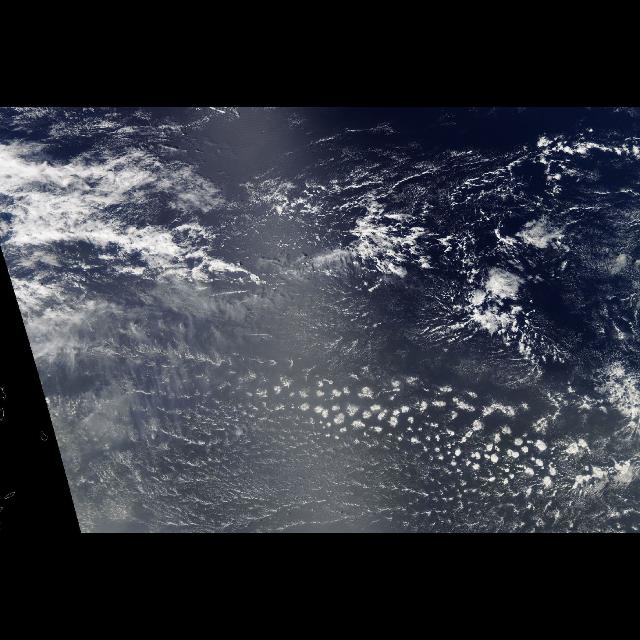Flower: (143, 335, 639, 533)
Gravel: (204, 357, 588, 508)
Sugar: (51, 259, 330, 533)
